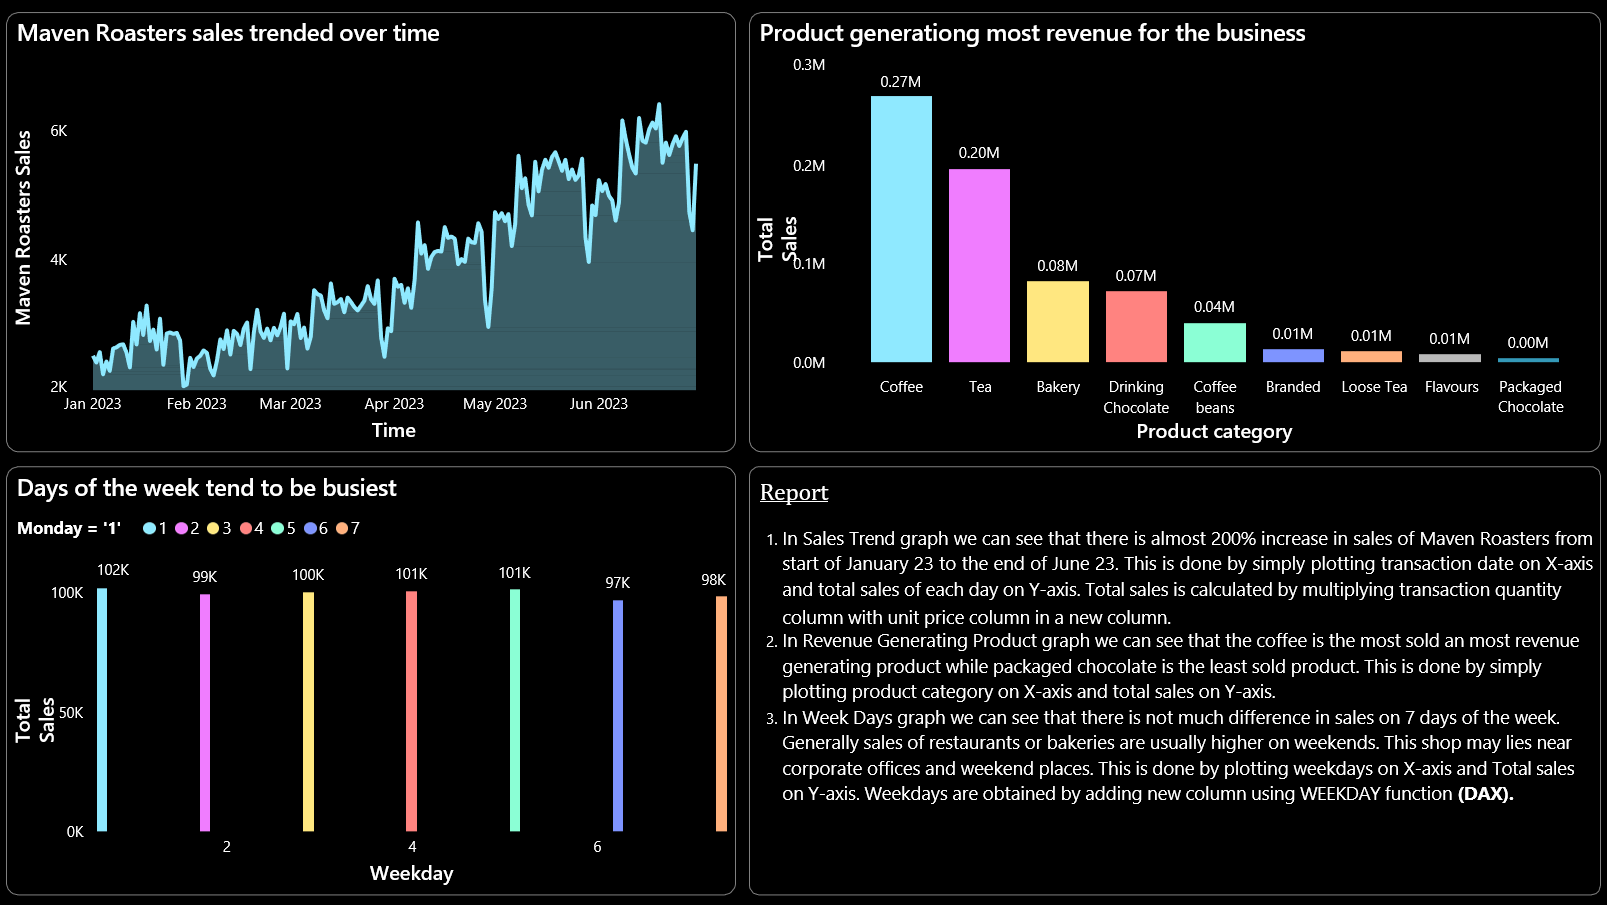

The page's visual inventory and layout, read from the dashboard file:
{"tool":"powerbi","page":{"name":"Page 1","canvas":[1280,720],"ordinal":0},"visuals":[{"type":"lineChart","title":"Maven Roasters sales trended over time","fields":{"Category":["Transactions.transaction_date"],"Y":["Sum(Transactions.Total_price)"]},"box":[8.3,11.9,577,348.6],"z":0},{"type":"clusteredColumnChart","title":"Days of the week tend to be busiest","fields":{"Category":["Transactions.Weekday"],"Y":["Sum(Transactions.Total_price)"],"Series":["Transactions.Weekday"]},"box":[8.3,371.2,577,339],"z":1000},{"type":"columnChart","title":"Product generationg most revenue for the business","fields":{"Category":["Transactions.product_category"],"Y":["Sum(Transactions.Total_price)"],"Series":["Transactions.product_category"]},"box":[594.8,11.9,674.5,348.6],"z":2000},{"type":"textbox","box":[595,371,674,339],"z":3000}]}

Visuals, with their boxes in screenshot pixels (x1, y1, x2, y2), scaled from the page's 1280x720 canvas onto the 1607x905 screenshot:
"Maven Roasters sales trended over time" lineChart: [10,15,735,453]
"Days of the week tend to be busiest" clusteredColumnChart: [10,467,735,893]
"Product generationg most revenue for the business" columnChart: [747,15,1594,453]
textbox: [747,466,1593,892]
